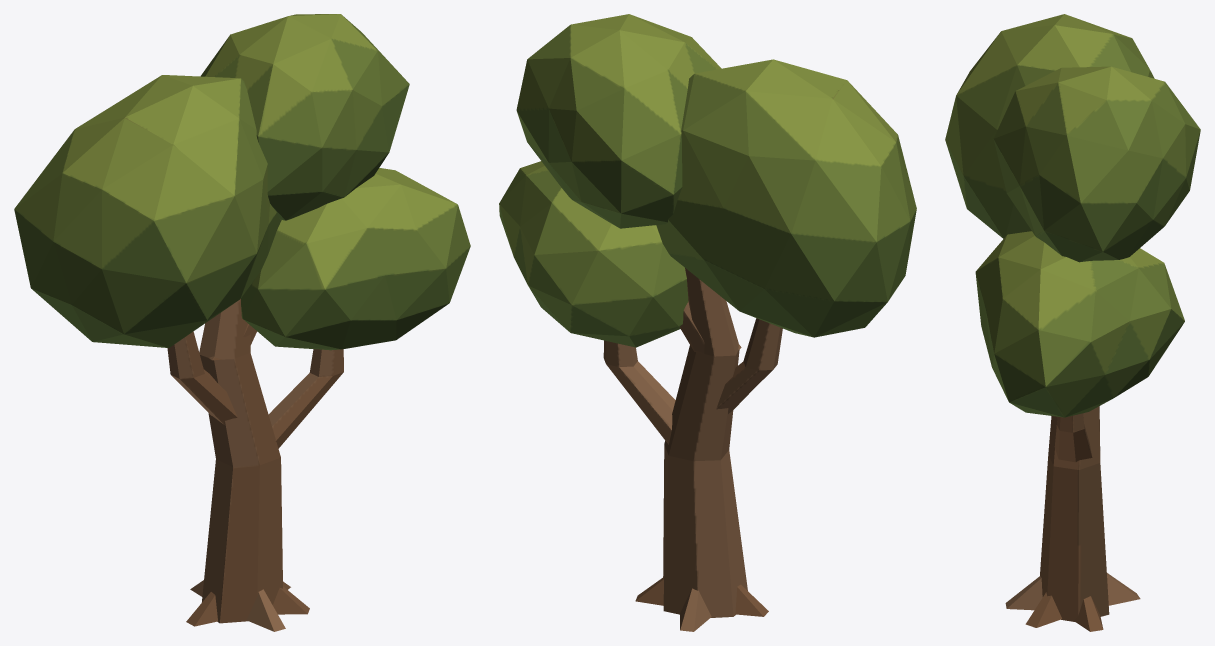
The model's file is tree-round.glb.
3 views of the same model, side by side, from view 1: azimuth 30°, elevation 25°; view 2: azimuth 150°, elevation 25°; view 3: azimuth 270°, elevation 25° (orthographic).
Parts seen in each view (by area): view 1: tree-round; view 2: tree-round; view 3: tree-round.
Part boxes in pixels (bbox=[...]): tree-round: bbox=[14, 14, 470, 631]; tree-round: bbox=[499, 14, 916, 631]; tree-round: bbox=[945, 14, 1200, 631].
Size of the model in its own units: 5.15 by 6.68 by 2.72.
Materials: 1 (1 with a texture image).
